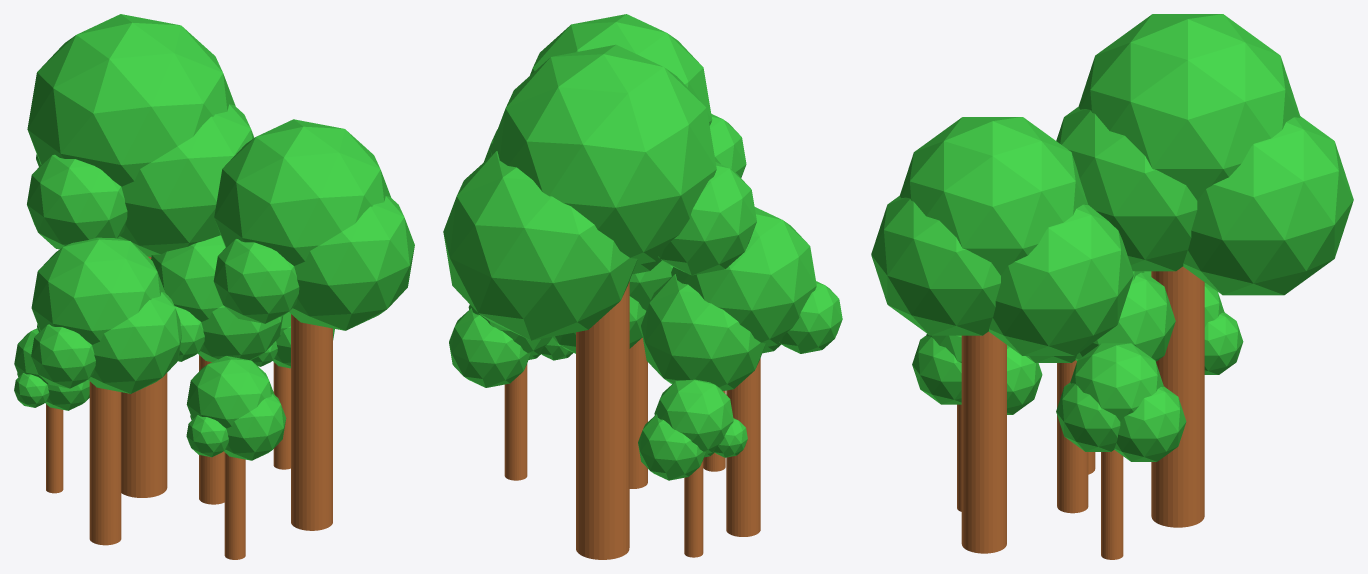
File: Forest.fbx
3 views of the same model, side by side, from view 1: azimuth 30°, elevation 25°; view 2: azimuth 150°, elevation 25°; view 3: azimuth 270°, elevation 25° (orthographic). The views are drawn at different scales.
Visible parts, largest first — view 1: Cylinder.007; view 2: Cylinder.007; view 3: Cylinder.007.
Part boxes in pixels (x1,y1,x2,y2): Cylinder.007: [14, 14, 414, 559]; Cylinder.007: [443, 14, 842, 559]; Cylinder.007: [871, 14, 1353, 559].
Size of the model in its own units: 151 by 207 by 183.
